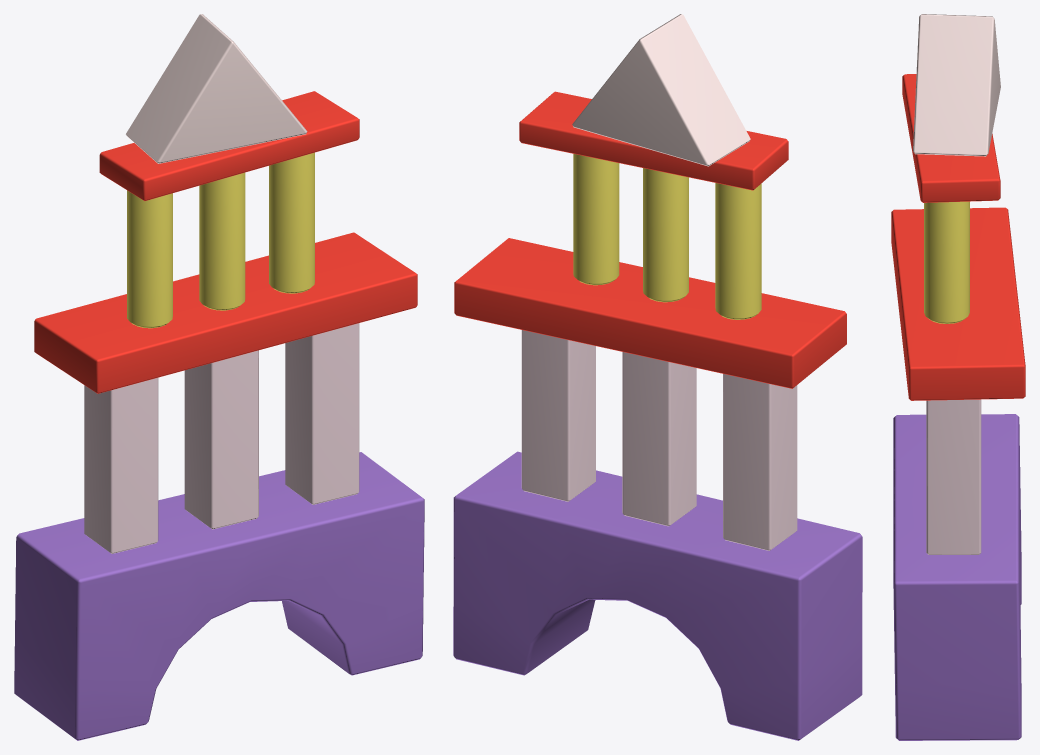
Rendered from Store_9_Toys_set_2.glb.
The picture shows the model from 3 angles, left to right: view 1: azimuth 30°, elevation 25°; view 2: azimuth 150°, elevation 25°; view 3: azimuth 270°, elevation 25°; orthographic projection.
Parts seen in each view (by area): view 1: Store_9_Toys_set_2; view 2: Store_9_Toys_set_2; view 3: Store_9_Toys_set_2.
Boxes of the visible parts, box(x1,y1,x2,y2) form: Store_9_Toys_set_2: box(14, 14, 424, 740); Store_9_Toys_set_2: box(453, 14, 862, 740); Store_9_Toys_set_2: box(891, 14, 1025, 740).
Bounding box in the file's own units: 1.38 × 2.47 × 0.4691.
Materials: 1 (1 with a texture image).
